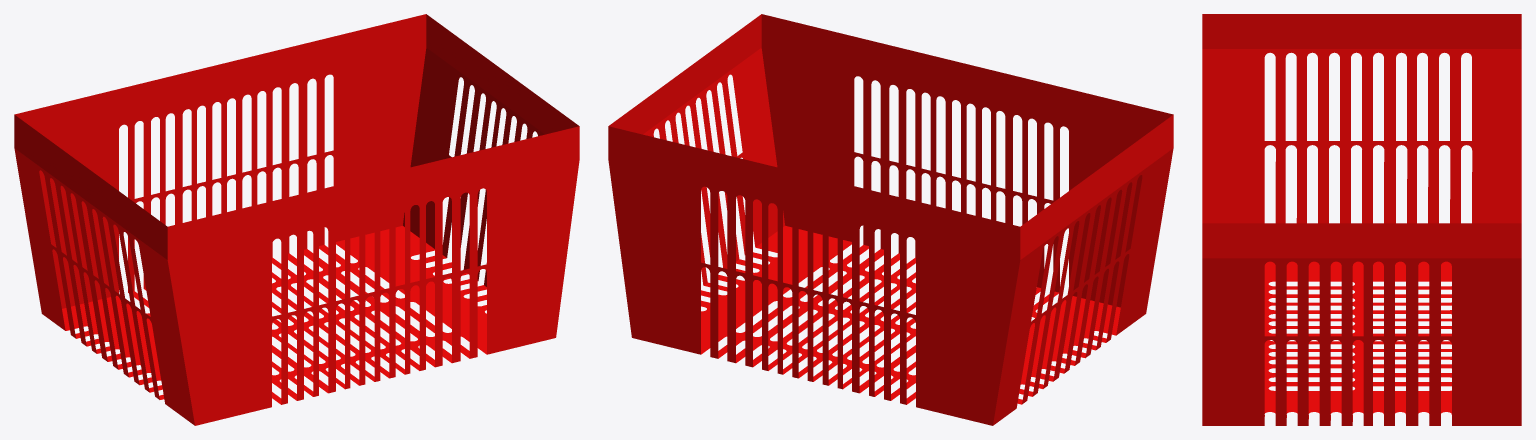
File: original-3.obj
The picture shows the model from 3 angles, left to right: view 1: azimuth 30°, elevation 25°; view 2: azimuth 150°, elevation 25°; view 3: azimuth 270°, elevation 25°; orthographic projection. The views are drawn at different scales.
Bounding box in the file's own units: 1.5 × 0.7153 × 0.9649.
